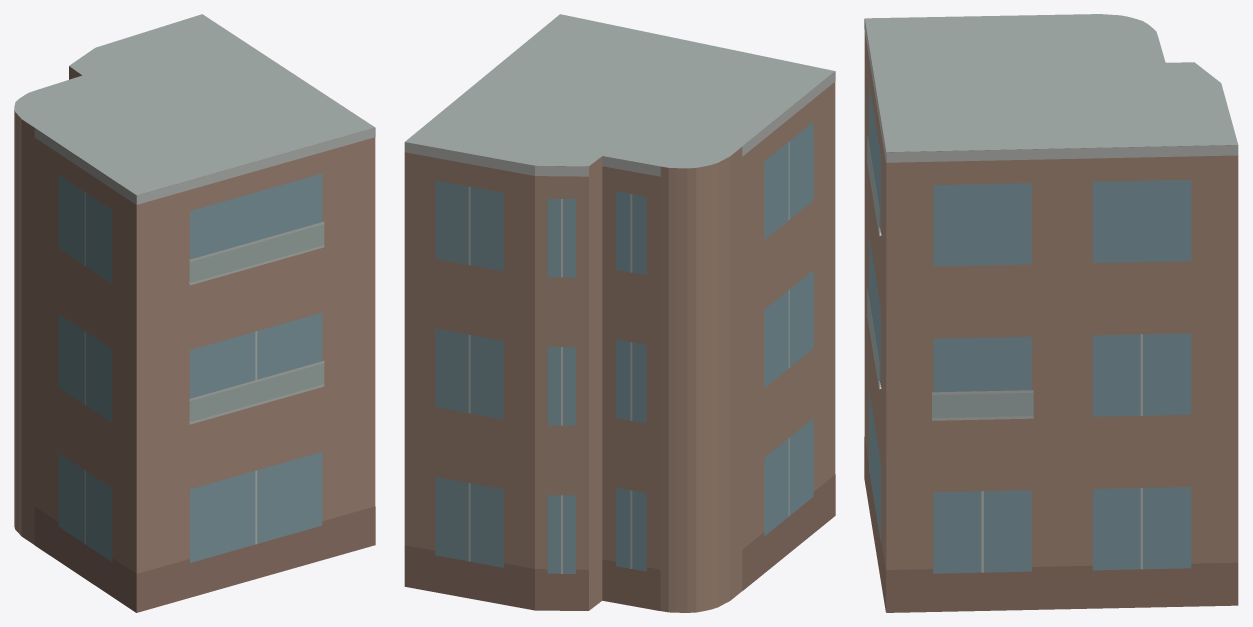
Rendered from survey-upis-32486909.glb.
3 renders of one model, left to right at view 1: azimuth 30°, elevation 25°; view 2: azimuth 150°, elevation 25°; view 3: azimuth 270°, elevation 25°, orthographic. The views are drawn at different scales.
Visible parts, largest first — view 1: survey-upis-32486909.tmp; view 2: survey-upis-32486909.tmp; view 3: survey-upis-32486909.tmp.
Part boxes in pixels (bbox=[...]): survey-upis-32486909.tmp: bbox=[14, 14, 375, 612]; survey-upis-32486909.tmp: bbox=[404, 14, 835, 612]; survey-upis-32486909.tmp: bbox=[864, 14, 1238, 612].
Bounding box in the file's own units: 6.81 × 10.57 × 7.78.
